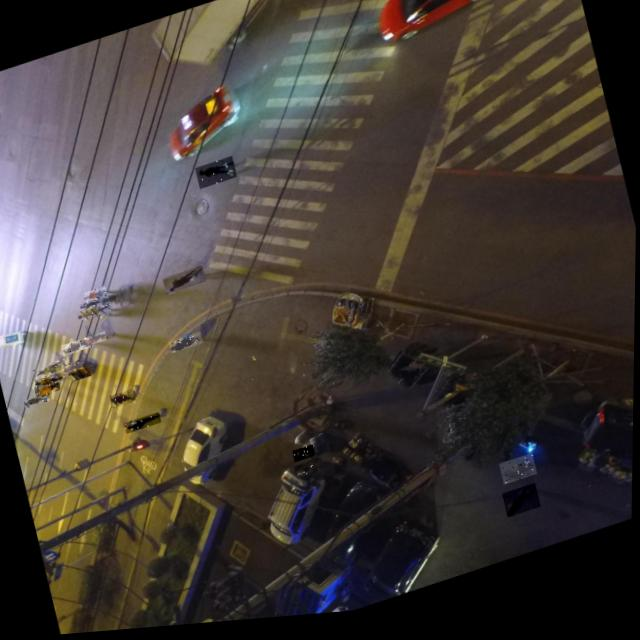Person: (195, 158, 237, 191), (503, 490, 542, 525), (162, 267, 207, 296), (500, 460, 538, 493), (124, 413, 163, 435), (169, 333, 204, 355), (34, 358, 69, 380), (77, 302, 112, 322), (61, 336, 94, 356), (110, 389, 138, 410), (35, 370, 65, 388), (80, 293, 106, 312), (35, 379, 62, 397), (295, 463, 319, 482), (84, 286, 109, 304), (81, 331, 107, 348), (24, 392, 51, 408), (293, 448, 316, 466), (63, 360, 85, 377), (70, 366, 92, 382)
